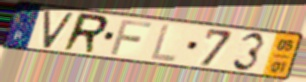3: (231, 31, 271, 73)
7: (201, 27, 235, 69)
F: (108, 18, 155, 57)
L: (148, 22, 179, 63)
R: (59, 12, 111, 56)
V: (42, 10, 76, 50)
